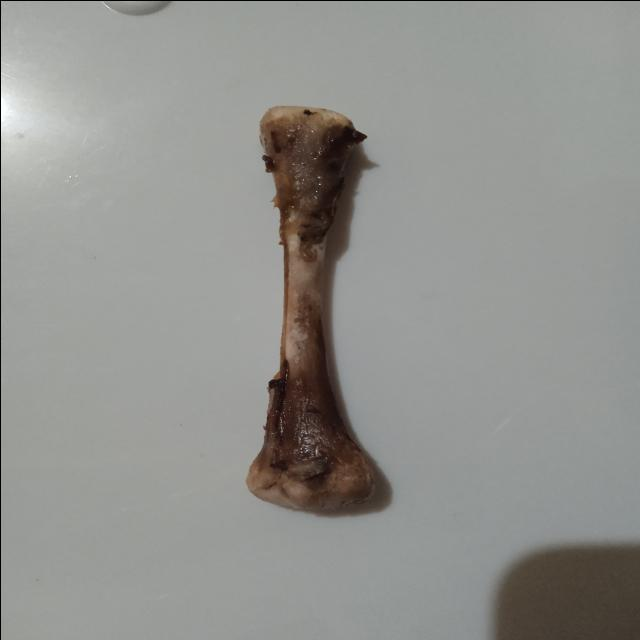bone: (238, 99, 387, 518)
